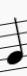G: (4, 14, 26, 73)
